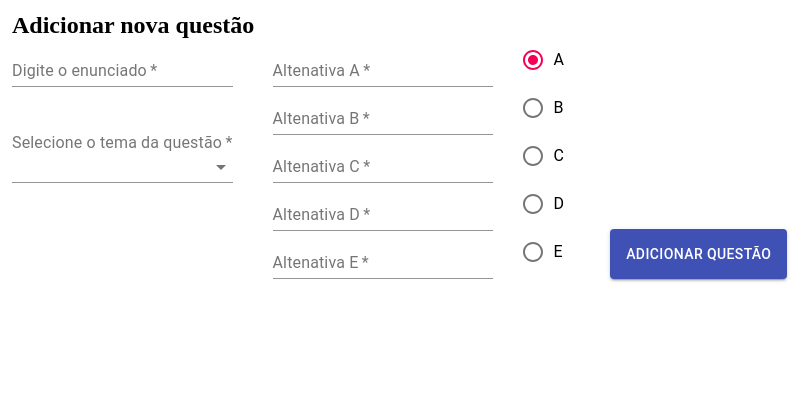
render QuestionRegistration screen › should render QuestionRegistration Errors
The image size is (805, 414).
Click the button "Adicionar questão" at (699, 254), box 610,229 -> 788,279
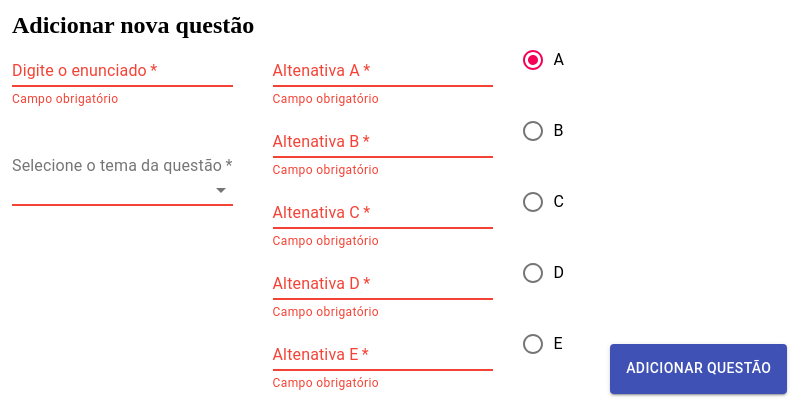
Now the text "Campo obrigatório" is shown 6 times, box 12,92 -> 118,106; 272,92 -> 379,106; 272,163 -> 379,177; 272,234 -> 379,248; 272,305 -> 379,319; 272,376 -> 379,390
